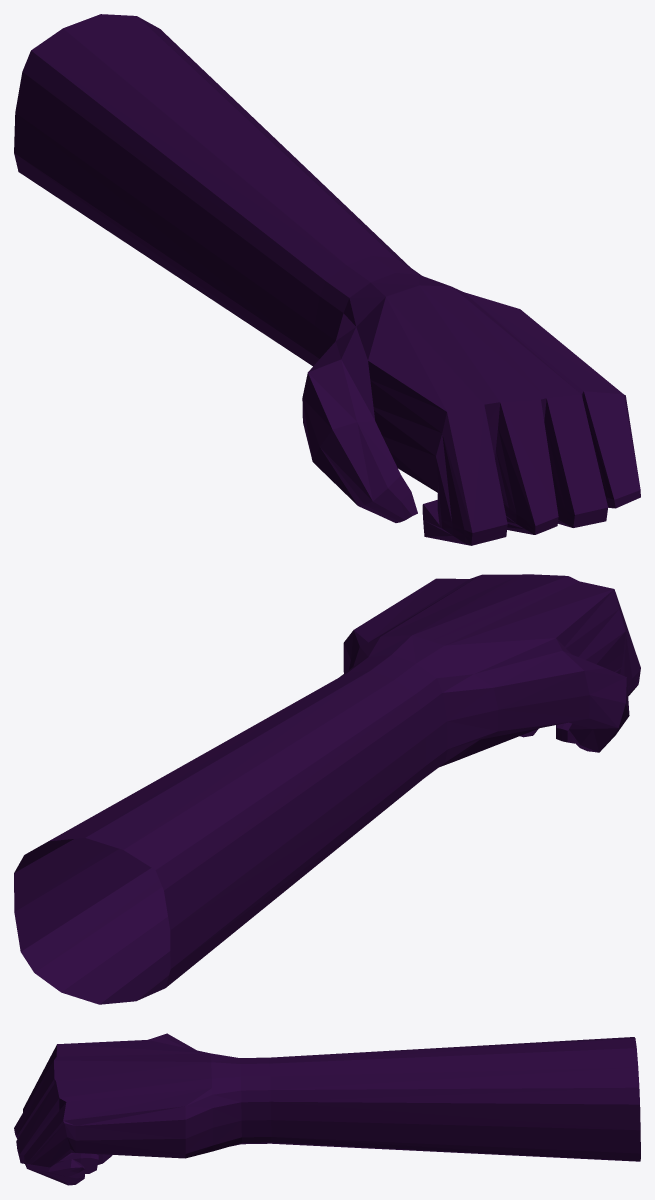
File: Boss_ArmL_Gu.obj
3 renders of one model, top to bottom at view 1: azimuth 30°, elevation 25°; view 2: azimuth 150°, elevation 25°; view 3: azimuth 270°, elevation 25°, orthographic. The views are drawn at different scales.
Visible parts, largest first — view 1: 立方体.001; view 2: 立方体.001; view 3: 立方体.001.
Boxes of the visible parts, bbox=[...] form: 立方体.001: bbox=[14, 14, 640, 545]; 立方体.001: bbox=[14, 574, 640, 1004]; 立方体.001: bbox=[14, 1033, 640, 1185].
Bounding box in the file's own units: 1.46 × 1.05 × 4.84.
Materials: 1 (1 with a texture image).
